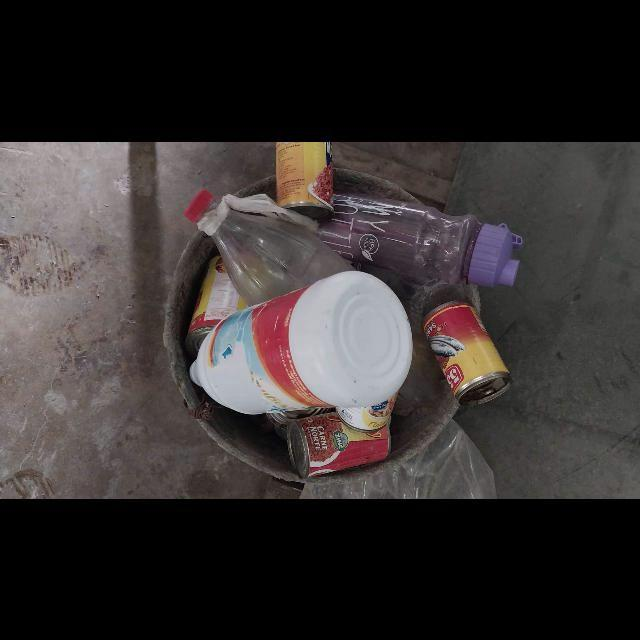aluminum: (423, 299, 513, 407), (287, 412, 391, 479), (185, 251, 250, 356), (276, 141, 334, 222), (335, 388, 399, 433)
plastic_bottle: (190, 270, 413, 414), (184, 187, 357, 306), (317, 192, 523, 287)
